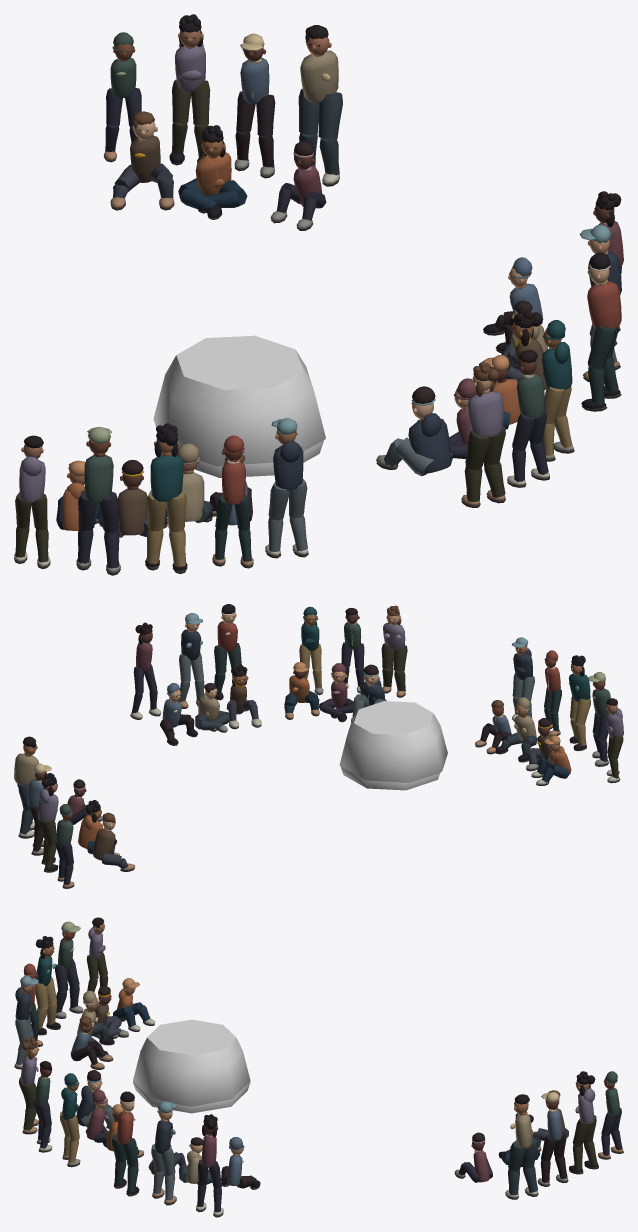
File: club-audience.glb
3 views of the same model, one above another, from view 1: azimuth 30°, elevation 25°; view 2: azimuth 150°, elevation 25°; view 3: azimuth 270°, elevation 25° (orthographic). The views are drawn at different scales.
Visible parts, largest first — view 1: crowd-body, crowd-sleeve, crowd-forearm; view 2: crowd-body, crowd-sleeve, crowd-forearm; view 3: crowd-body, crowd-sleeve, crowd-forearm.
Part boxes in pixels (box(x1,y1,x2,y2)): crowd-body: box(14, 14, 623, 575); crowd-sleeve: box(153, 335, 325, 466); crowd-forearm: box(183, 339, 323, 477); crowd-body: box(14, 604, 623, 888); crowd-sleeve: box(339, 701, 447, 782); crowd-forearm: box(341, 702, 440, 790); crowd-body: box(14, 917, 623, 1217); crowd-sleeve: box(133, 1019, 250, 1106); crowd-forearm: box(133, 1028, 250, 1113).
Size of the model in its own units: 8.95 by 1.9 by 10.37.
